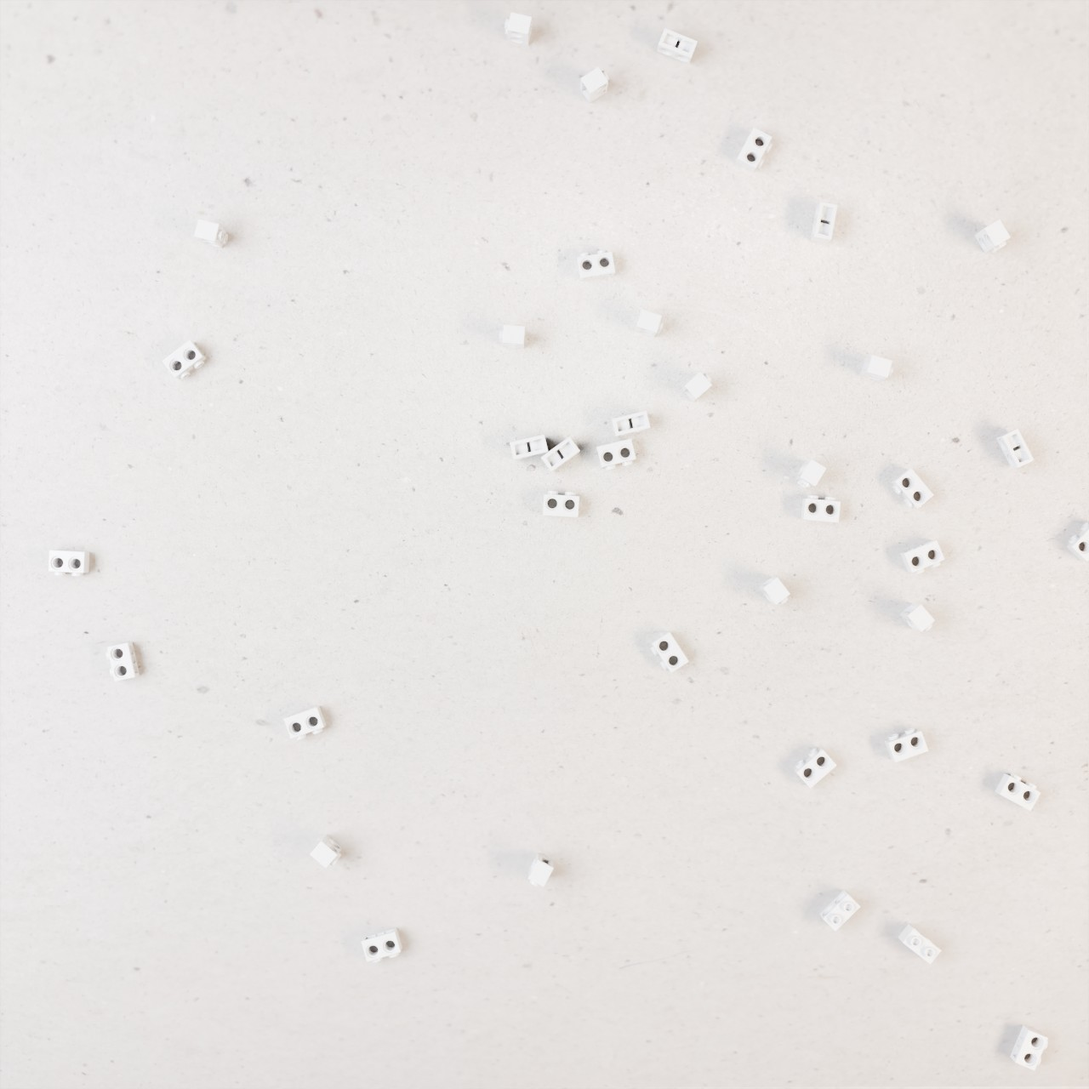lego: (819, 889, 861, 932), (794, 747, 837, 789), (162, 340, 207, 380), (898, 924, 941, 965), (891, 468, 934, 509), (995, 773, 1041, 811), (1010, 1025, 1048, 1071), (735, 127, 773, 172), (650, 631, 689, 673), (884, 727, 929, 763), (900, 540, 945, 575), (996, 428, 1034, 469), (657, 28, 698, 64), (361, 927, 402, 963), (284, 705, 326, 740), (541, 437, 580, 473), (106, 642, 140, 682), (596, 438, 636, 471), (974, 219, 1011, 253), (577, 250, 615, 281), (810, 202, 838, 244), (801, 495, 841, 523), (310, 834, 342, 869), (611, 410, 650, 438), (48, 550, 90, 576), (580, 67, 609, 104), (899, 603, 935, 632), (510, 434, 548, 461), (794, 459, 827, 489), (194, 219, 228, 248), (543, 491, 579, 518), (681, 371, 712, 402), (504, 12, 532, 46), (1066, 521, 1089, 562), (758, 576, 790, 605), (860, 355, 894, 382), (528, 853, 554, 887), (634, 309, 664, 337), (499, 325, 526, 349)
